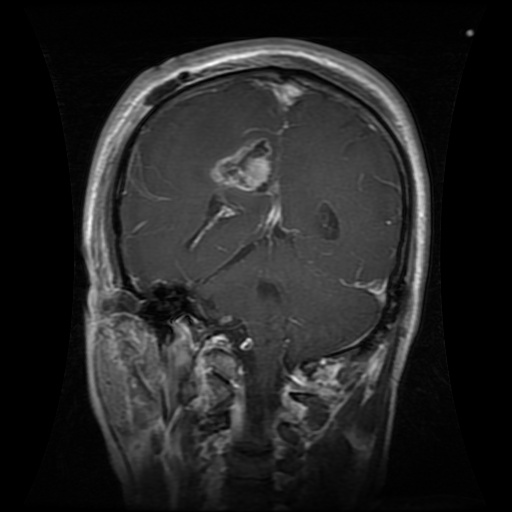glioma: (208, 128, 287, 198)
